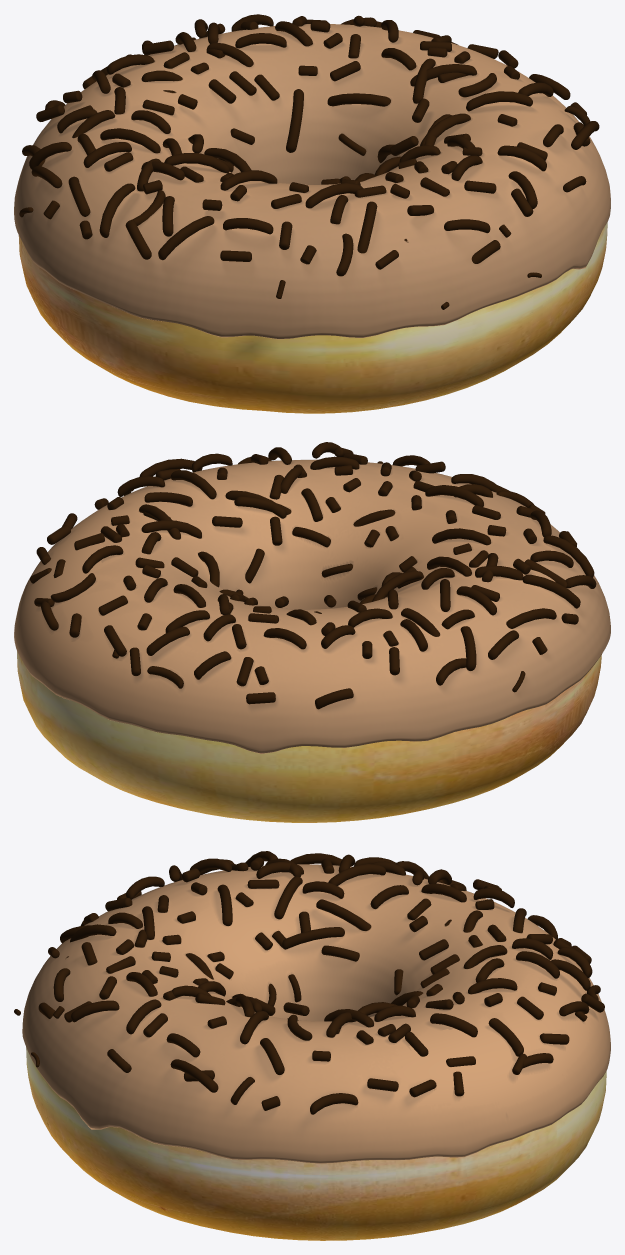
The model's file is light chocolate vermicheli.glb.
3 renders of one model, top to bottom at view 1: azimuth 30°, elevation 25°; view 2: azimuth 150°, elevation 25°; view 3: azimuth 270°, elevation 25°, orthographic. The views are drawn at different scales.
Visible parts, largest first — view 1: coffee.001, light, blue.002, Torus; view 2: light, coffee.001, blue.002, Torus; view 3: light, coffee.001, Torus, blue.002.
Part boxes in pixels (box(x1,y1,x2,y2)): coffee.001: box(14, 24, 610, 338); light: box(14, 24, 610, 339); blue.002: box(19, 14, 599, 309); Torus: box(18, 222, 607, 413); light: box(14, 460, 606, 753); coffee.001: box(14, 459, 610, 753); blue.002: box(30, 442, 596, 709); Torus: box(17, 651, 601, 822); light: box(23, 864, 610, 1163); coffee.001: box(22, 864, 610, 1163); Torus: box(26, 1047, 606, 1240); blue.002: box(14, 851, 604, 1114).
Bounding box in the file's own units: 0.1989 × 0.0773 × 0.2.
Materials: 4 (2 with a texture image).
